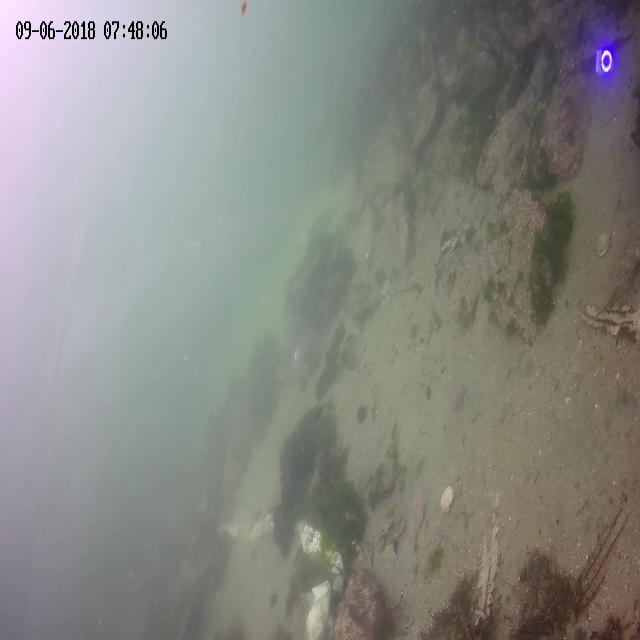scallop: (438, 484, 454, 513), (596, 230, 610, 256)
starfish: (410, 488, 430, 514), (406, 514, 422, 545), (454, 382, 468, 411), (384, 539, 396, 570)
